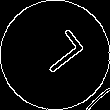L_SW: (25, 27, 85, 83)
